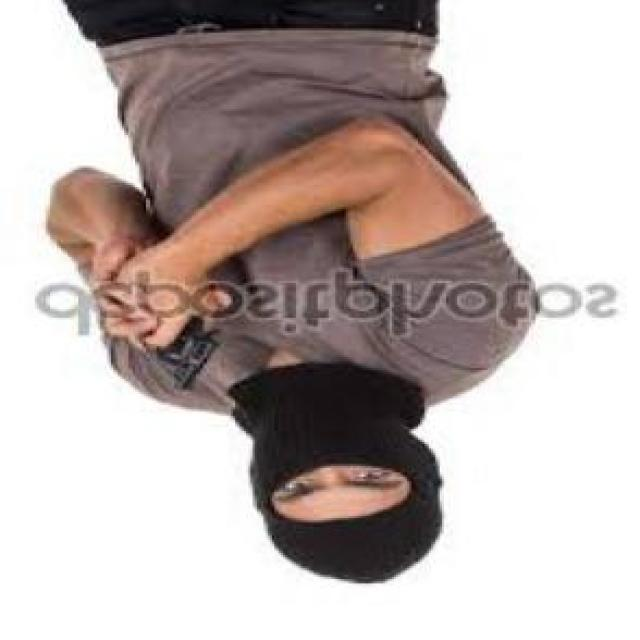pistol: (150, 330, 221, 390)
